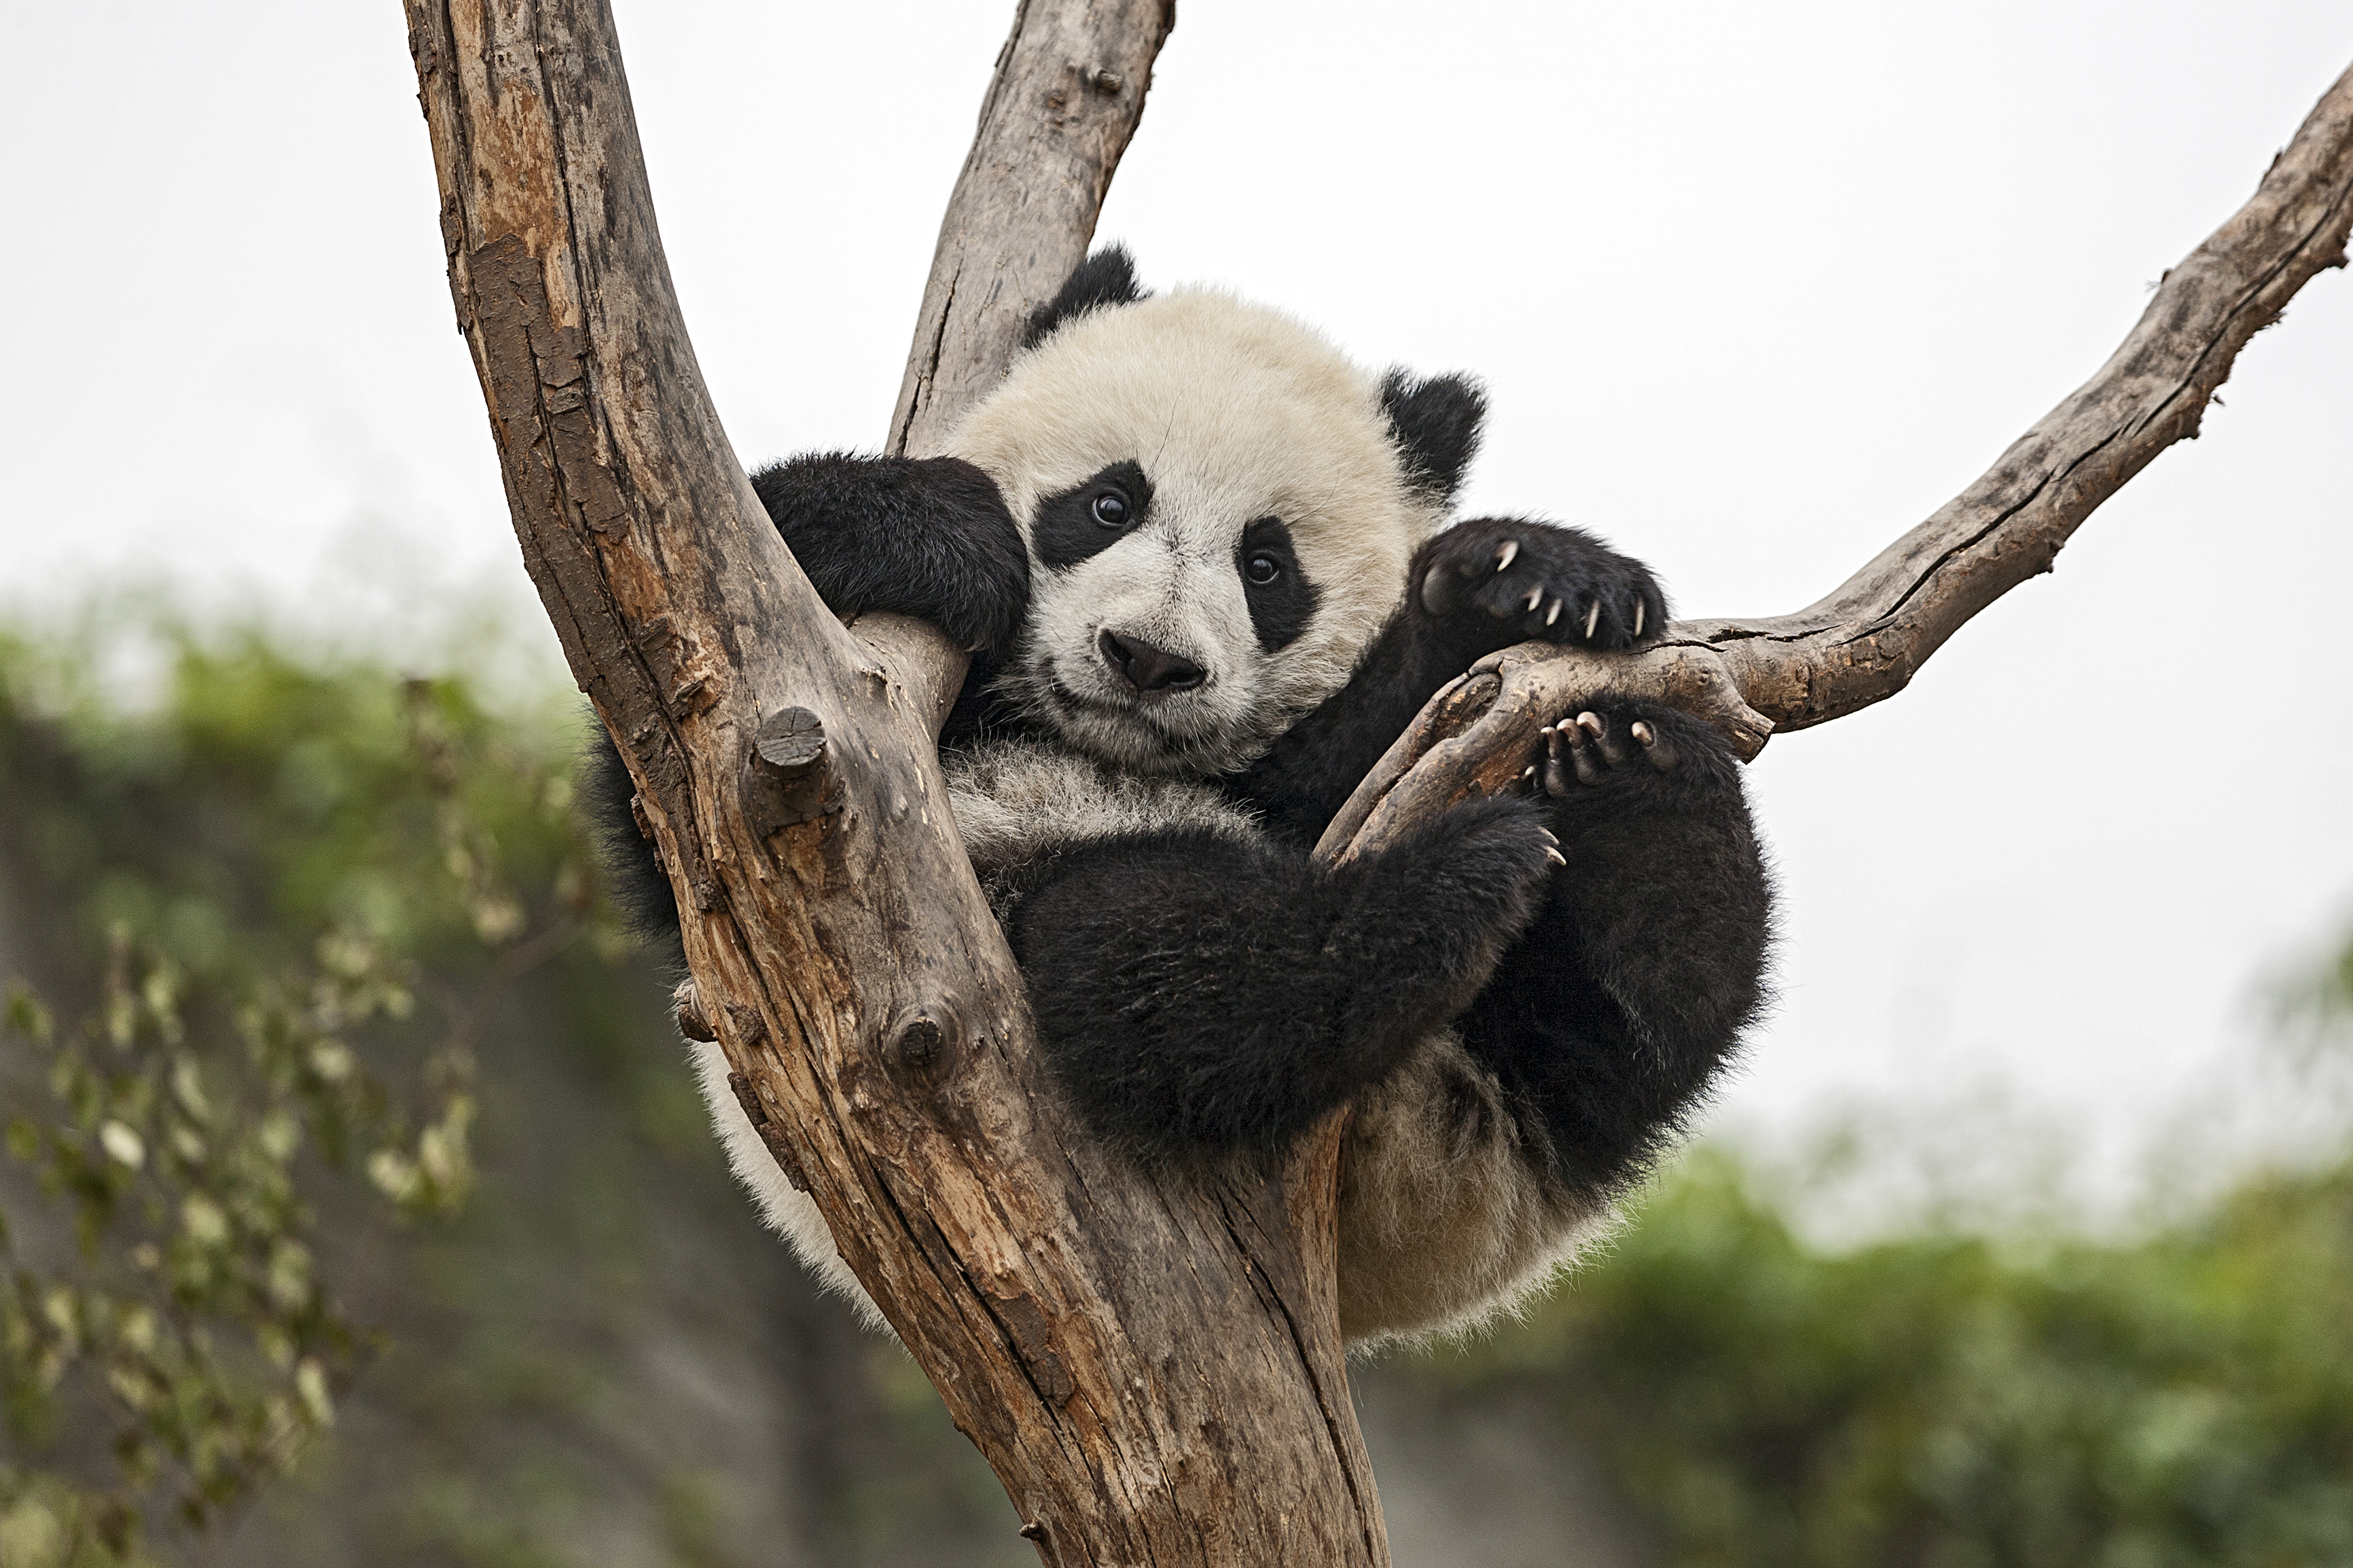panda: (555, 189, 1777, 1349)
